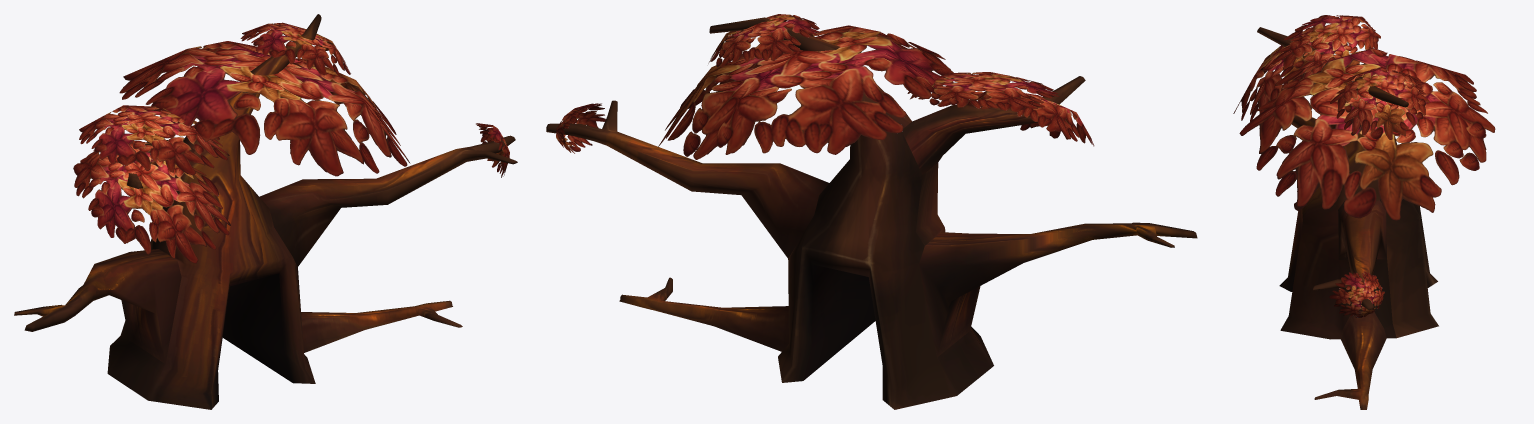
File: Spawn_Enemy.fbx
3 views of the same model, side by side, from view 1: azimuth 30°, elevation 25°; view 2: azimuth 150°, elevation 25°; view 3: azimuth 270°, elevation 25° (orthographic). The views are drawn at different scales.
Visible parts, largest first — view 1: Spawn; view 2: Spawn; view 3: Spawn.
Boxes of the visible parts, x1,y1,x2,y2 form: Spawn: (14,14,517,409); Spawn: (546,14,1197,409); Spawn: (1233,15,1495,409).
Bounding box in the file's own units: 266 × 142 × 140.
1 material, 1 textured.
